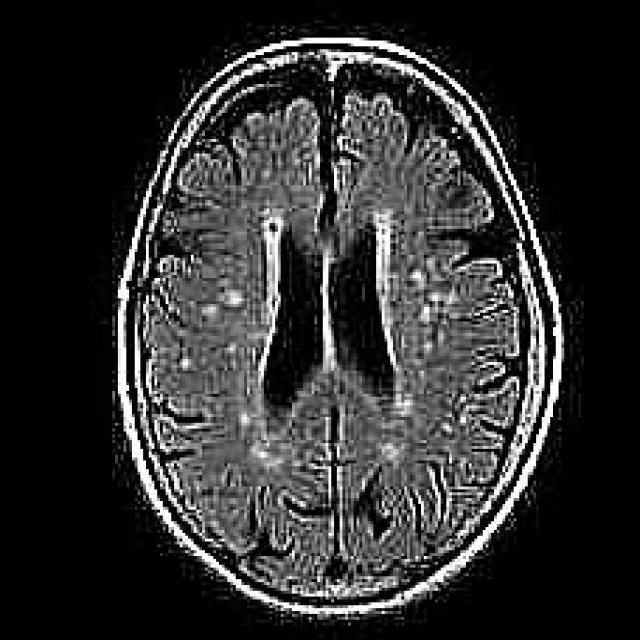notumor: (115, 38, 561, 620)
